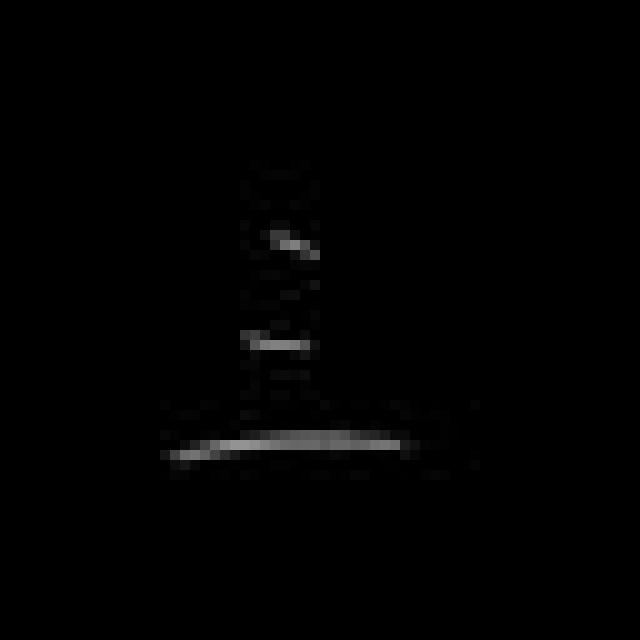3 -three-: (153, 220, 414, 480)
